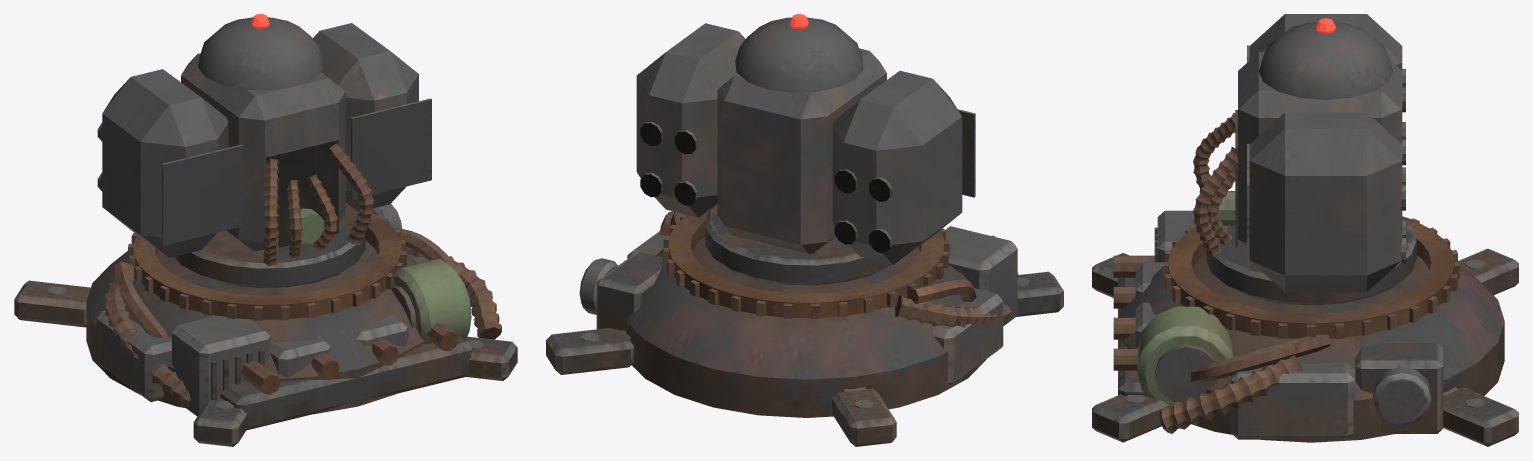
The model's file is rocket-turret.glb.
The picture shows the model from 3 angles, left to right: view 1: azimuth 30°, elevation 25°; view 2: azimuth 150°, elevation 25°; view 3: azimuth 270°, elevation 25°; orthographic projection. The views are drawn at different scales.
Visible parts, largest first — view 1: anim_turret_head, body; view 2: anim_turret_head, body; view 3: body, anim_turret_head.
Boxes of the visible parts, left/top/right/bottom form: anim_turret_head: left=97, top=14, right=431, bottom=287; body: left=14, top=204, right=517, bottom=446; anim_turret_head: left=636, top=14, right=975, bottom=285; body: left=546, top=208, right=1063, bottom=446; body: left=1092, top=210, right=1518, bottom=446; anim_turret_head: left=1193, top=14, right=1416, bottom=305.
Size of the model in its own units: 2.9 by 2.58 by 2.91.
2 materials, 2 textured.
